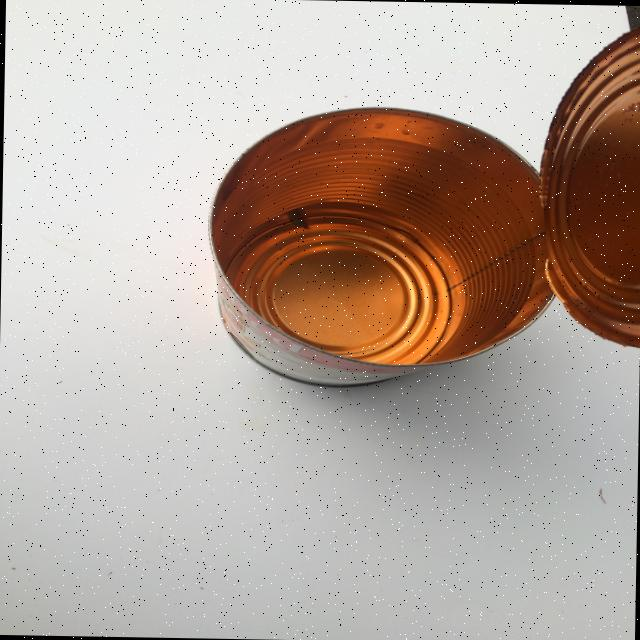metal: (204, 102, 559, 391)
